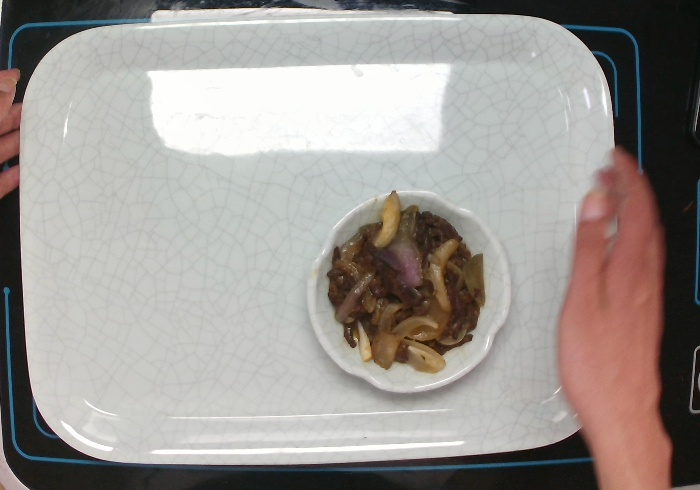JYsf-Ao_Yuan_Wan: (303, 188, 514, 395)
